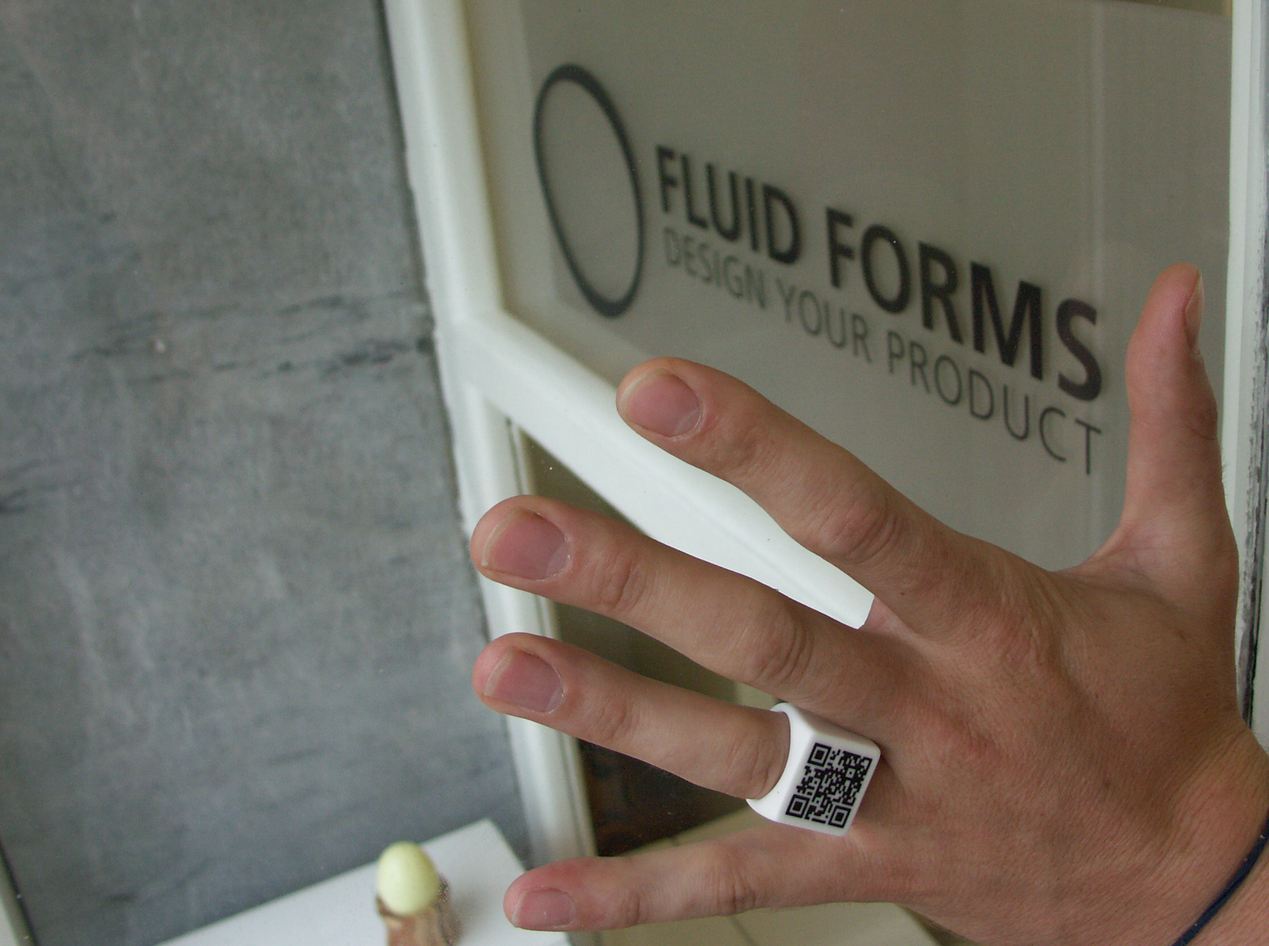QR-CODE: (785, 742, 872, 829)
